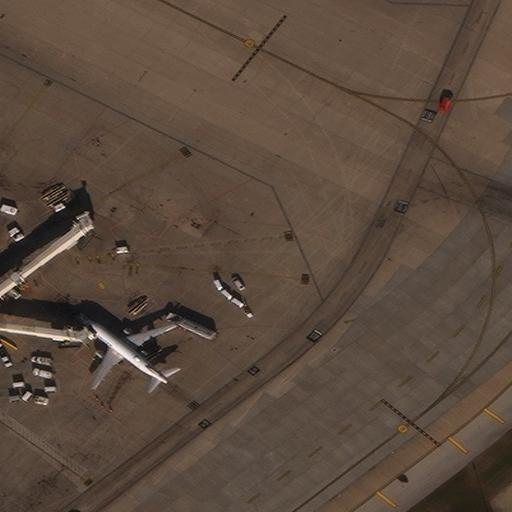Medium Civil Transport: (83, 319, 176, 387)
